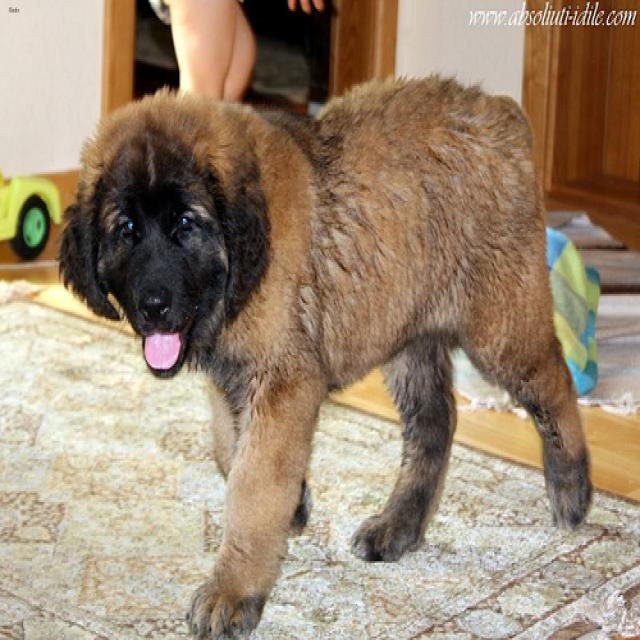dog-leonberger: (49, 54, 598, 636)
